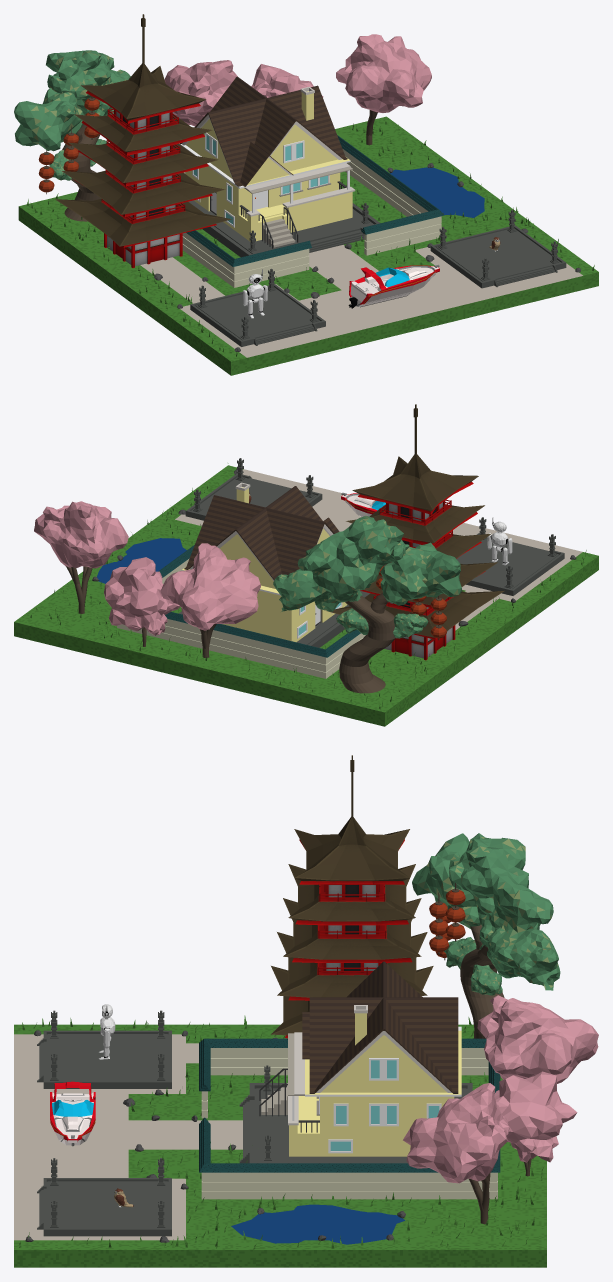
The picture shows the model from 3 angles, top to bottom: view 1: azimuth 30°, elevation 25°; view 2: azimuth 150°, elevation 25°; view 3: azimuth 270°, elevation 25°; orthographic projection. The views are drawn at different scales.
Parts seen in each view (by area): view 1: Cube.005, Cube.1555, VEHICLES_BOAT, OBJRANDOM_PLATZEEBOT; view 2: Cube.005, Cube.1555, OBJRANDOM_PLATZEEBOT, VEHICLES_BOAT; view 3: Cube.005, Cube.1555, VEHICLES_BOAT.
Part boxes in pixels (<box>): Cube.005: <box>14,14,598,375</box>; Cube.1555: <box>179,76,355,248</box>; VEHICLES_BOAT: <box>348,264,439,308</box>; OBJRANDOM_PLATZEEBOT: <box>243,269,267,318</box>; Cube.005: <box>14,404,598,726</box>; Cube.1555: <box>181,482,347,642</box>; OBJRANDOM_PLATZEEBOT: <box>487,517,512,565</box>; VEHICLES_BOAT: <box>341,492,385,516</box>; Cube.005: <box>14,755,598,1267</box>; Cube.1555: <box>259,961,461,1156</box>; VEHICLES_BOAT: <box>50,1081,95,1146</box>.
Bounding box in the file's own units: 4528 × 2842 × 4389.
Materials: 40 (5 with a texture image).
